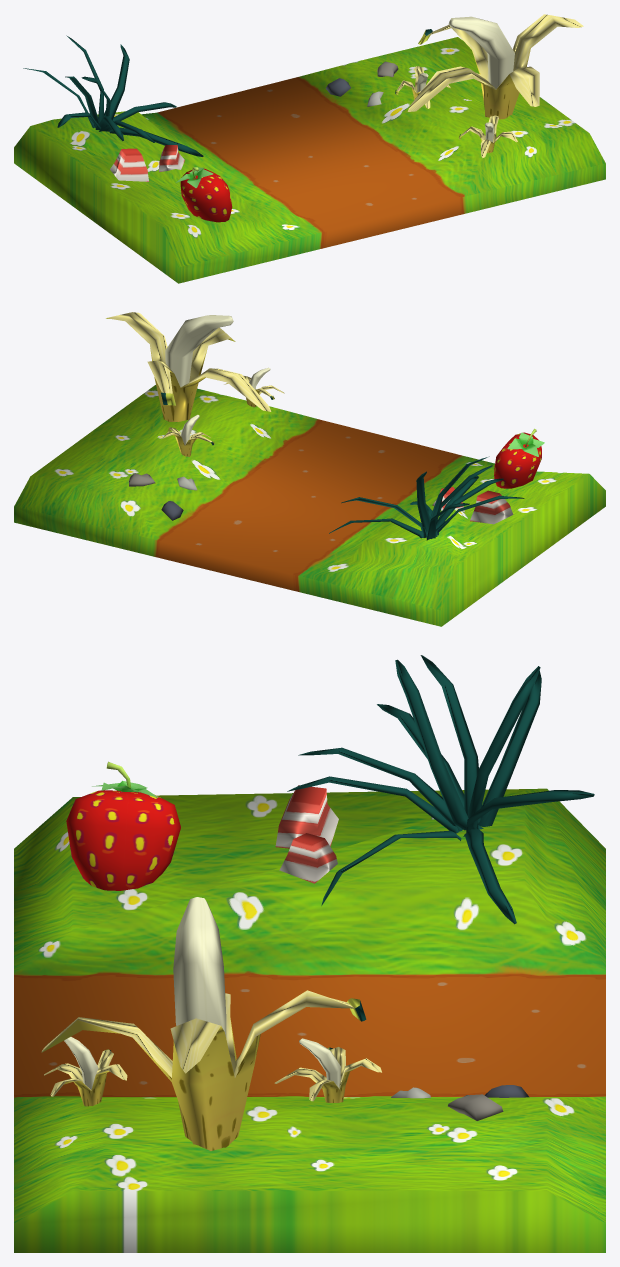
Rendered from D_block_Vide_01.FBX.
The picture shows the model from 3 angles, top to bottom: view 1: azimuth 30°, elevation 25°; view 2: azimuth 150°, elevation 25°; view 3: azimuth 270°, elevation 25°; orthographic projection. The views are drawn at different scales.
Visible parts, largest first — view 1: Biome_Vide_01; view 2: Biome_Vide_01; view 3: Biome_Vide_01.
Part boxes in pixels (left/top/right/bottom): Biome_Vide_01: left=14, top=14, right=605, bottom=283; Biome_Vide_01: left=14, top=312, right=605, bottom=626; Biome_Vide_01: left=14, top=655, right=605, bottom=1252.
Size of the model in its own units: 9.95 by 2.98 by 6.
Materials: 2 (2 with a texture image).
